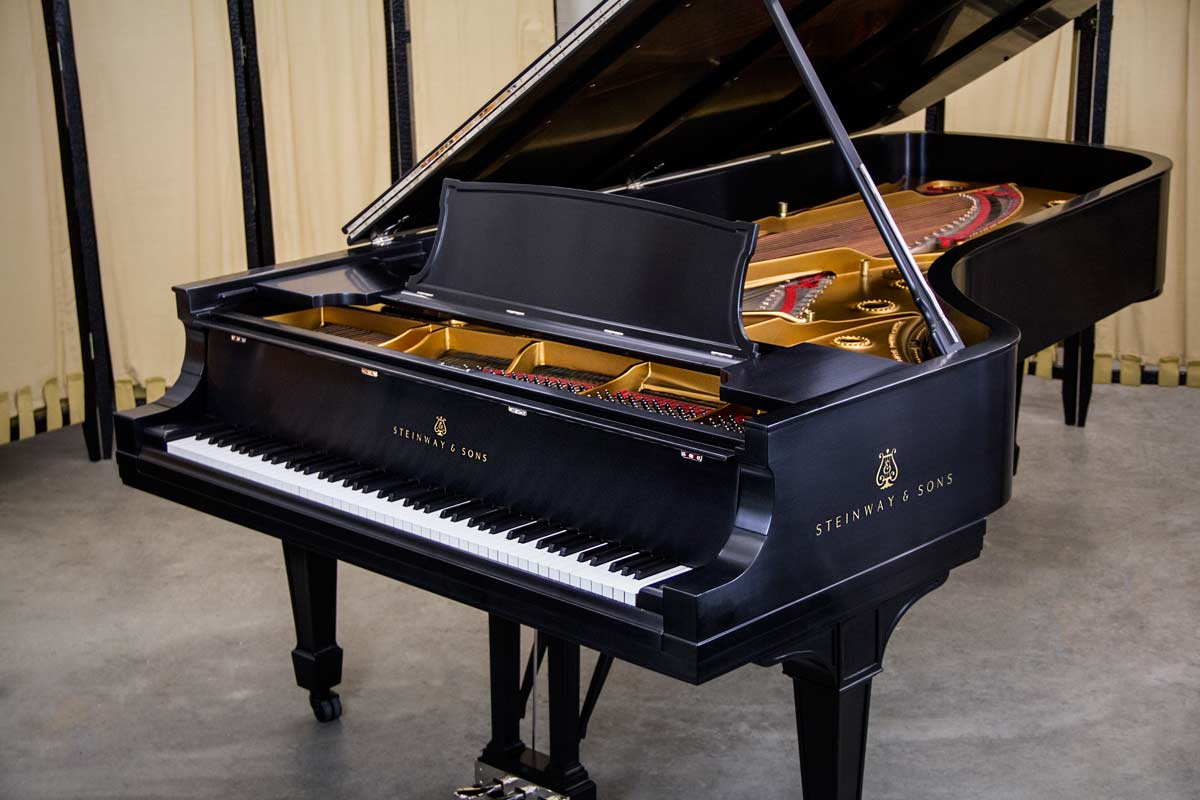GrandPiano: (146, 9, 1173, 712)
